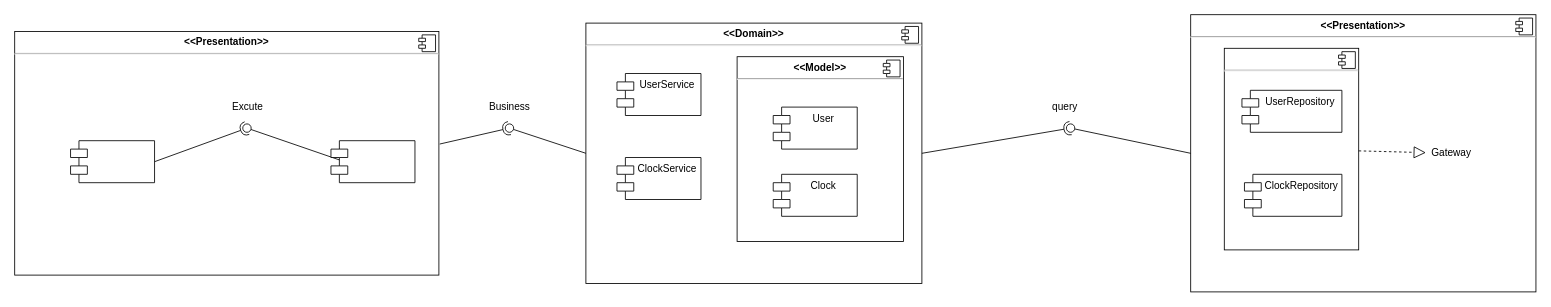
The diagram is 1551 pixels wide and 307 high, and some of its shapes have lost their labels. The centre of each missing label's shape, as x and y in pixels:
"Controller" goes at point 372,161.
"View" goes at point 112,161.
